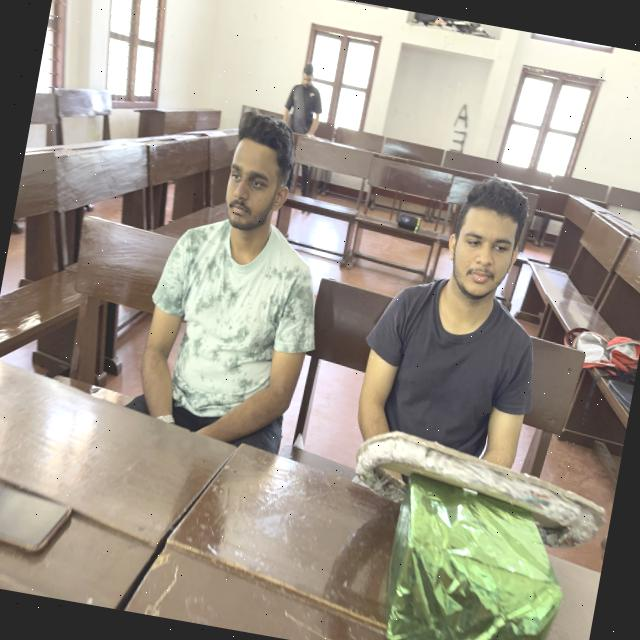no-seatbelt: (126, 202, 340, 472), (333, 273, 548, 529)
